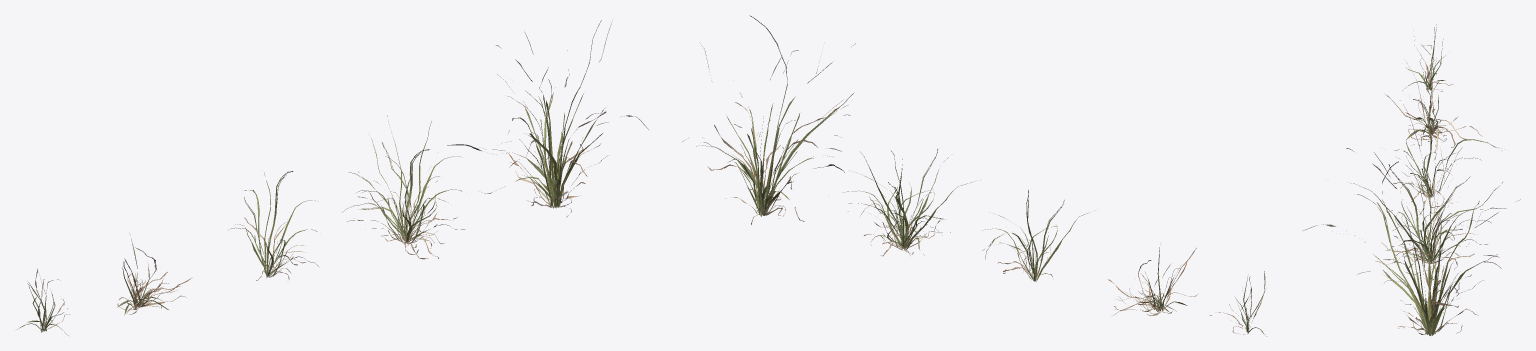
Rendered from grass.glb.
The picture shows the model from 3 angles, left to right: view 1: azimuth 30°, elevation 25°; view 2: azimuth 150°, elevation 25°; view 3: azimuth 270°, elevation 25°; orthographic projection. The views are drawn at different scales.
Visible parts, largest first — view 1: grass_medium_02_e, grass_medium_02_d, grass_medium_02_c, grass_medium_02_b, grass_medium_02_a; view 2: grass_medium_02_e, grass_medium_02_d, grass_medium_02_c, grass_medium_02_b, grass_medium_02_a; view 3: grass_medium_02_e, grass_medium_02_d, grass_medium_02_c, grass_medium_02_b, grass_medium_02_a.
Part boxes in pixels (x1,y1,x2,y2): grass_medium_02_e: (447,20,648,217); grass_medium_02_d: (342,115,464,259); grass_medium_02_c: (231,171,318,280); grass_medium_02_b: (117,238,192,314); grass_medium_02_a: (17,269,69,335); grass_medium_02_e: (682,15,855,224); grass_medium_02_d: (842,149,972,256); grass_medium_02_c: (982,190,1087,281); grass_medium_02_b: (1108,247,1197,315); grass_medium_02_a: (1210,271,1266,336); grass_medium_02_e: (1303,148,1520,335); grass_medium_02_d: (1351,147,1506,274); grass_medium_02_c: (1393,99,1501,214); grass_medium_02_b: (1385,61,1482,149); grass_medium_02_a: (1402,24,1452,91).
Size of the model in its own units: 1.31 by 0.4053 by 0.4326.
1 material, 1 textured.
